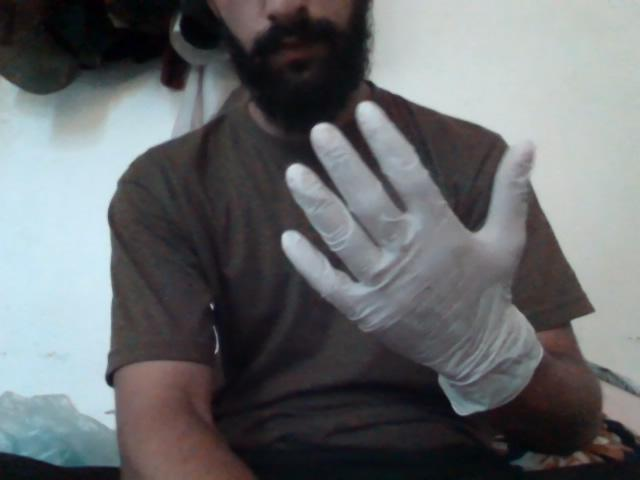gloves: (234, 99, 576, 415)
